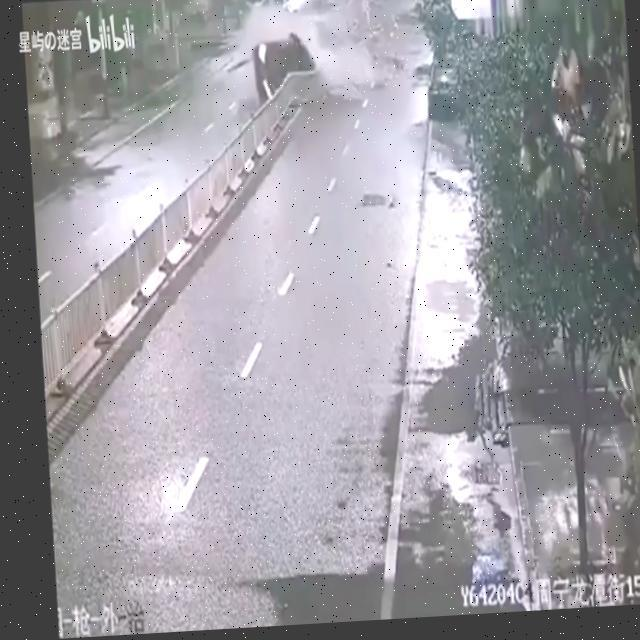single accident: (237, 22, 370, 119)
